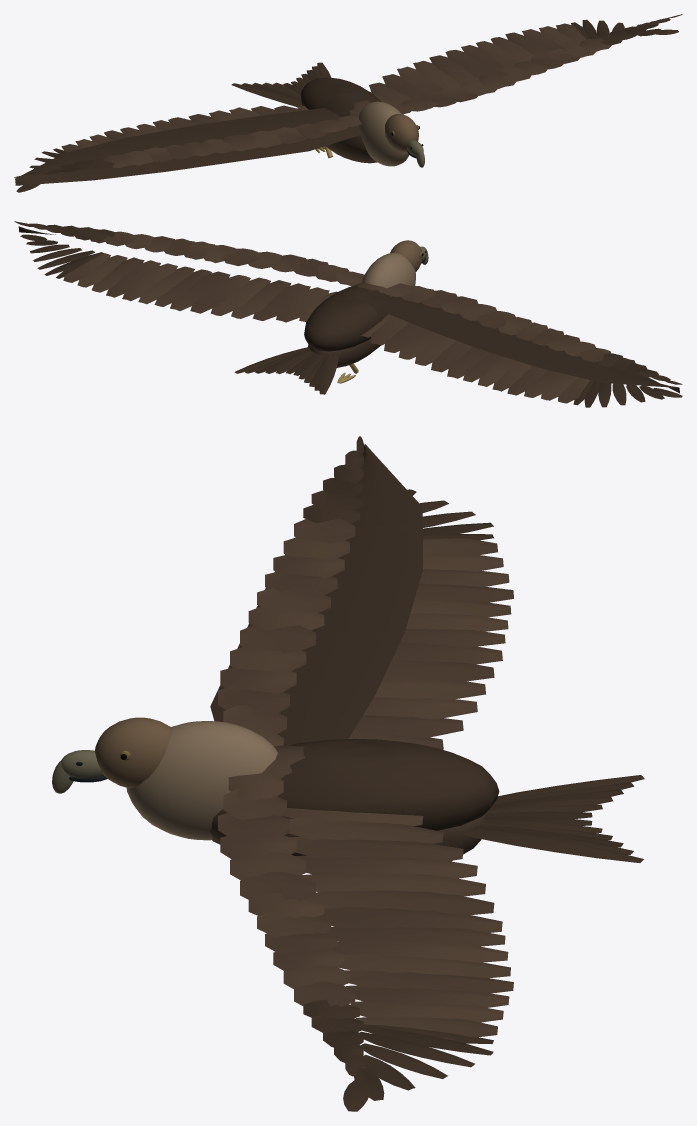
File: v3-black-kite-low.glb
3 views of the same model, one above another, from view 1: azimuth 30°, elevation 25°; view 2: azimuth 150°, elevation 25°; view 3: azimuth 270°, elevation 25° (orthographic). The views are drawn at different scales.
Parts seen in each view (by area): view 1: surface-detail (×8), leading-edge-cover (×3), mantle, neck, breast, head; view 2: surface-detail (×7), leading-edge-cover (×3), mantle, neck, breast, head; view 3: surface-detail (×8), leading-edge-cover (×3), mantle, neck, head, breast.
Part boxes in pixels (x1,y1,x2,y2): surface-detail (×8): [14, 14, 682, 192]; leading-edge-cover (×3): [15, 108, 361, 185]; mantle: [300, 77, 381, 116]; neck: [359, 101, 409, 166]; breast: [325, 100, 376, 163]; head: [385, 114, 418, 151]; surface-detail (×7): [14, 221, 682, 407]; leading-edge-cover (×3): [379, 296, 679, 393]; mantle: [304, 285, 390, 351]; neck: [362, 253, 415, 288]; breast: [308, 282, 392, 367]; head: [390, 240, 422, 271]; surface-detail (×8): [52, 436, 644, 1111]; leading-edge-cover (×3): [210, 444, 423, 745]; mantle: [277, 738, 499, 830]; neck: [126, 721, 277, 840]; head: [95, 717, 171, 788]; breast: [209, 745, 487, 861].
Size of the model in its own units: 1.5 by 0.1797 by 0.5756.
